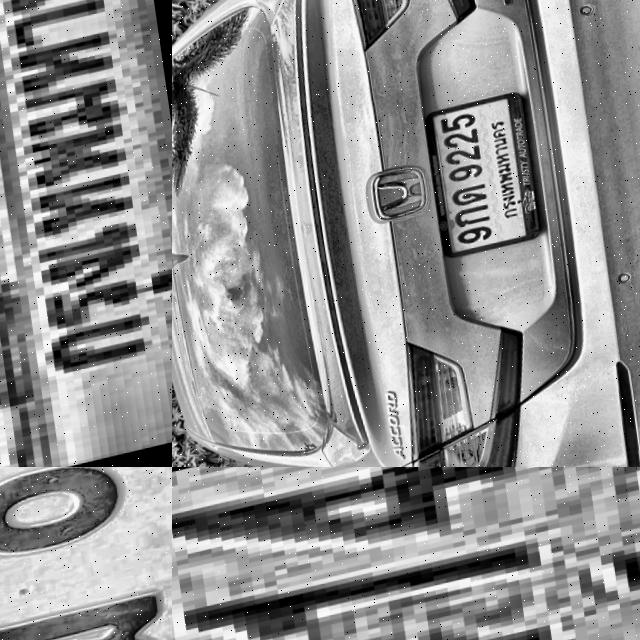license-plate: (172, 467, 640, 640), (0, 0, 172, 467), (0, 467, 172, 640), (414, 85, 556, 275)
